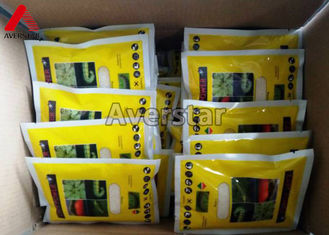Insecticide: (161, 142, 320, 235), (14, 147, 162, 230)
